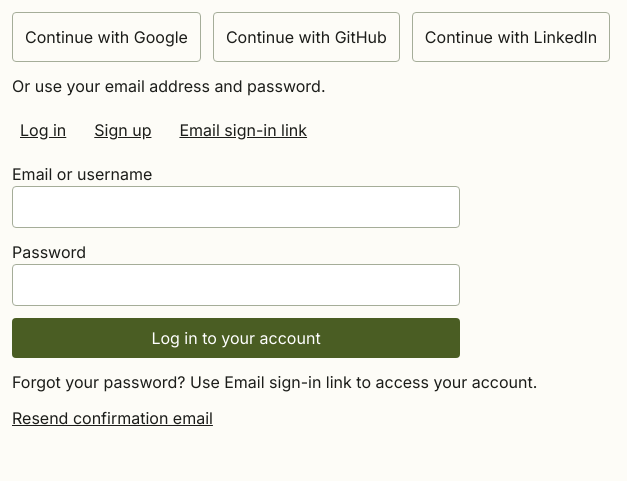
it: social sign-in › handles network failures and enables retry
Click the button "Continue with GitHub": (306, 37) [213,12,400,62]
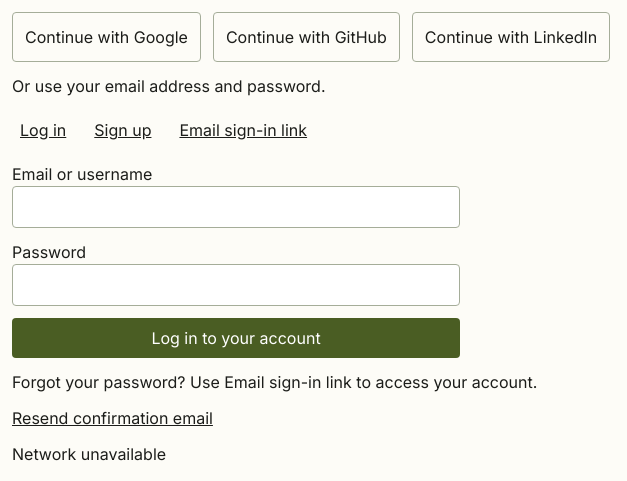
Check: the message reads "Network unavailable", box [12,444,166,464]
